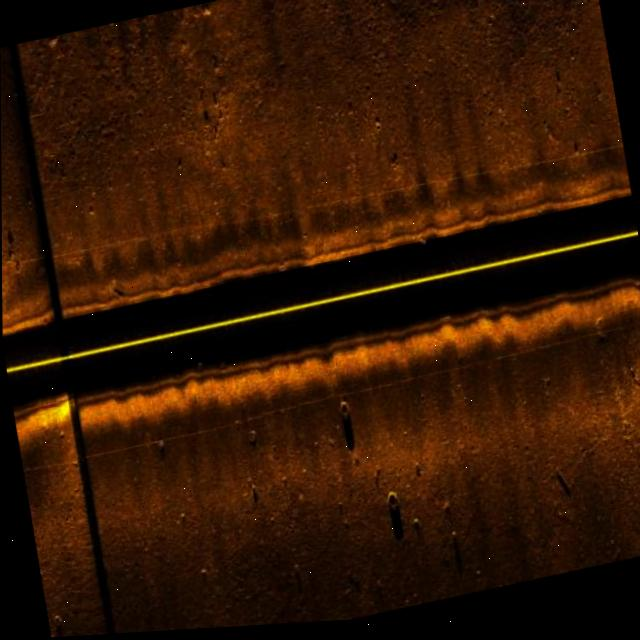mine: (547, 469, 575, 511)
other: (376, 484, 415, 559), (335, 405, 358, 457)
